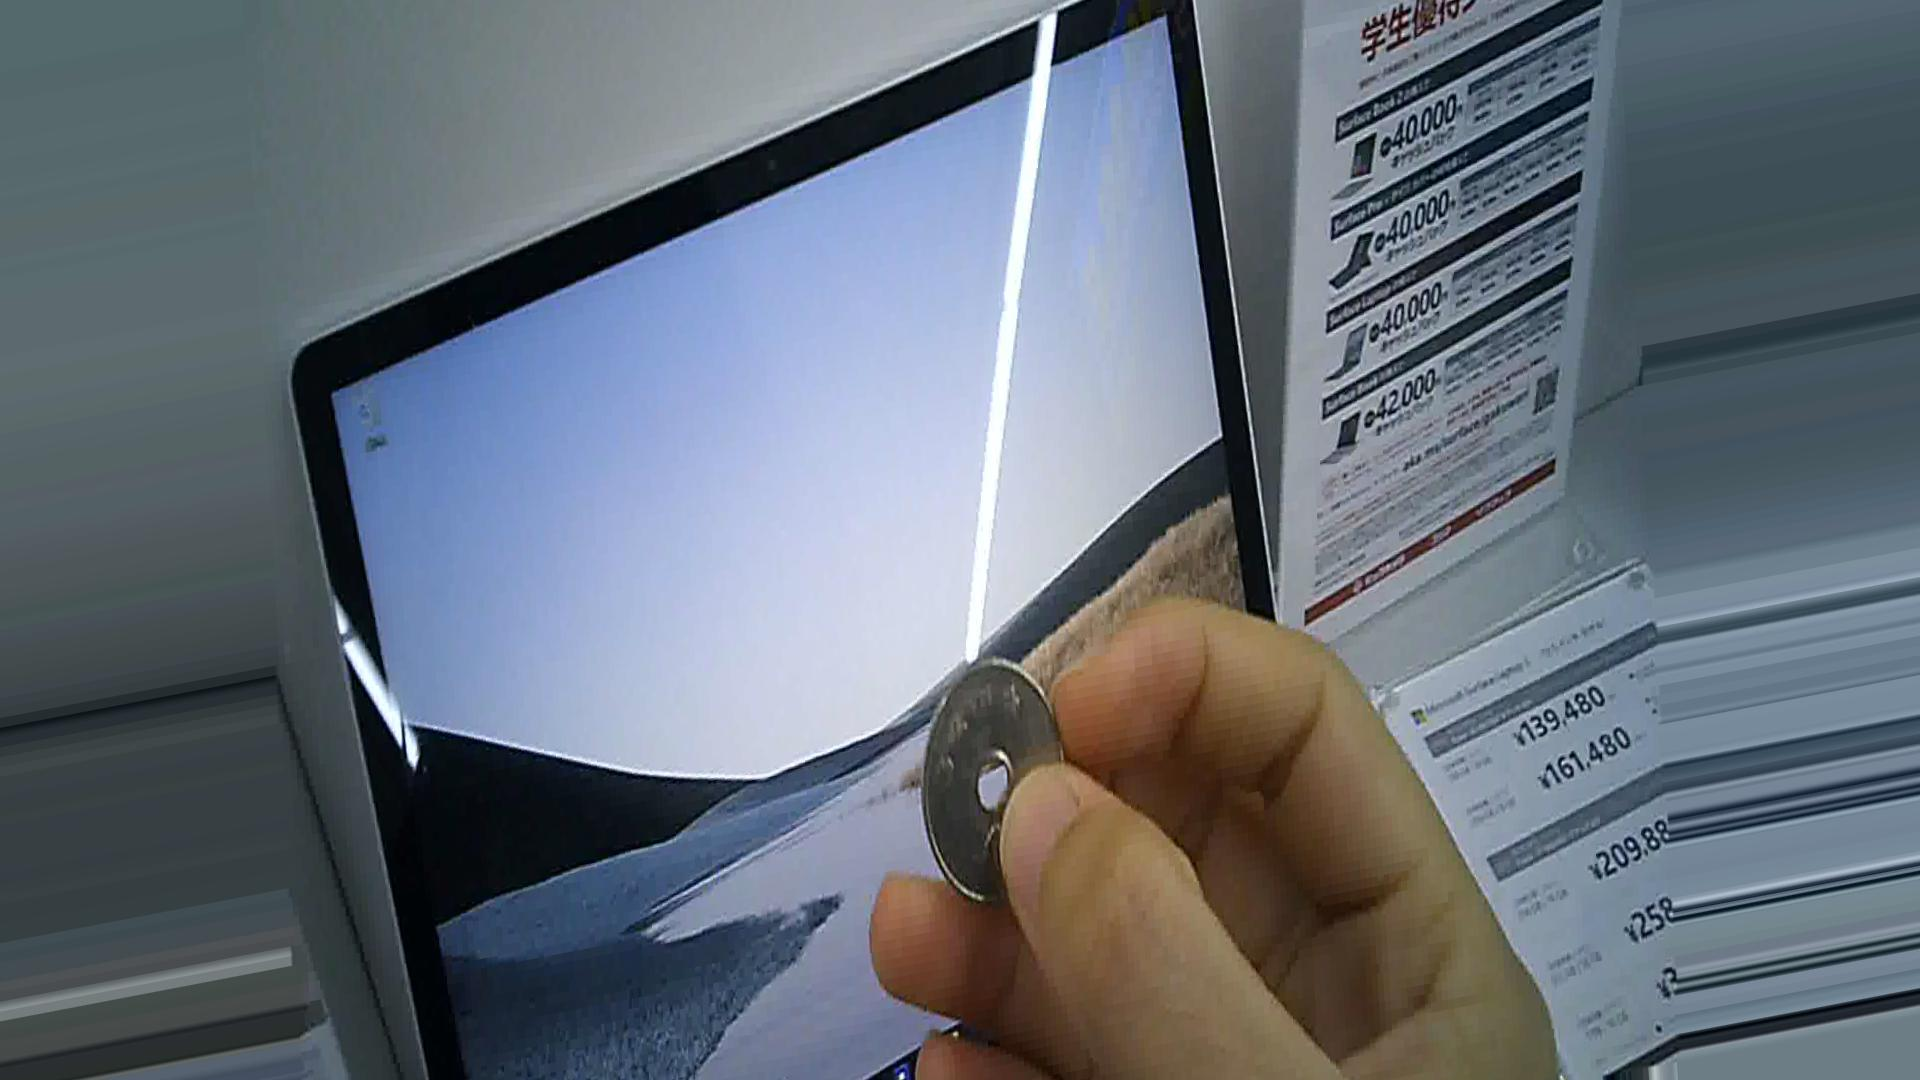50 Yen: (914, 662, 1065, 907)
